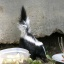skunk: (19, 6, 47, 57)
